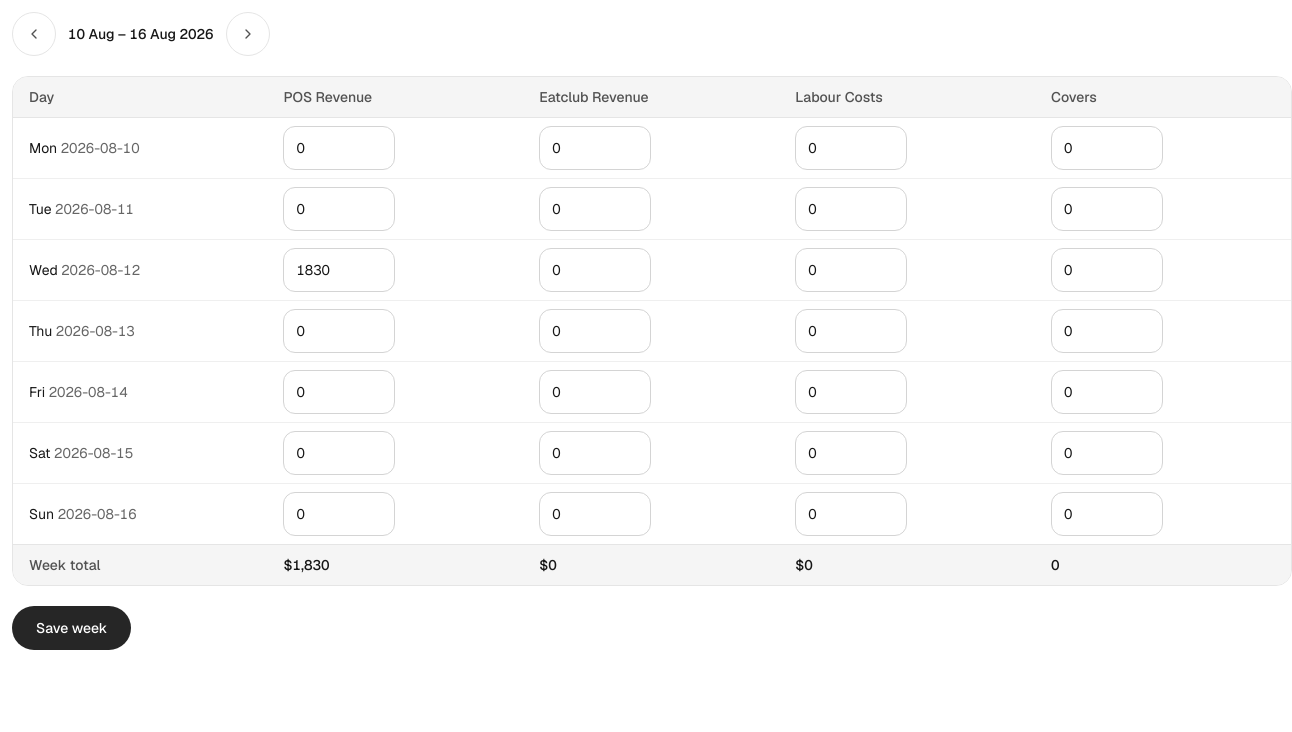
it: AS-022: an invalid entry › keeps an unrecognised refusal as a banner rather than swallowing it
Expected: the number field named "POS Revenue 2026-08-10" is shown, [283, 126, 395, 170]
Click the button "Save week".
click(72, 628)  # box [12, 606, 131, 650]
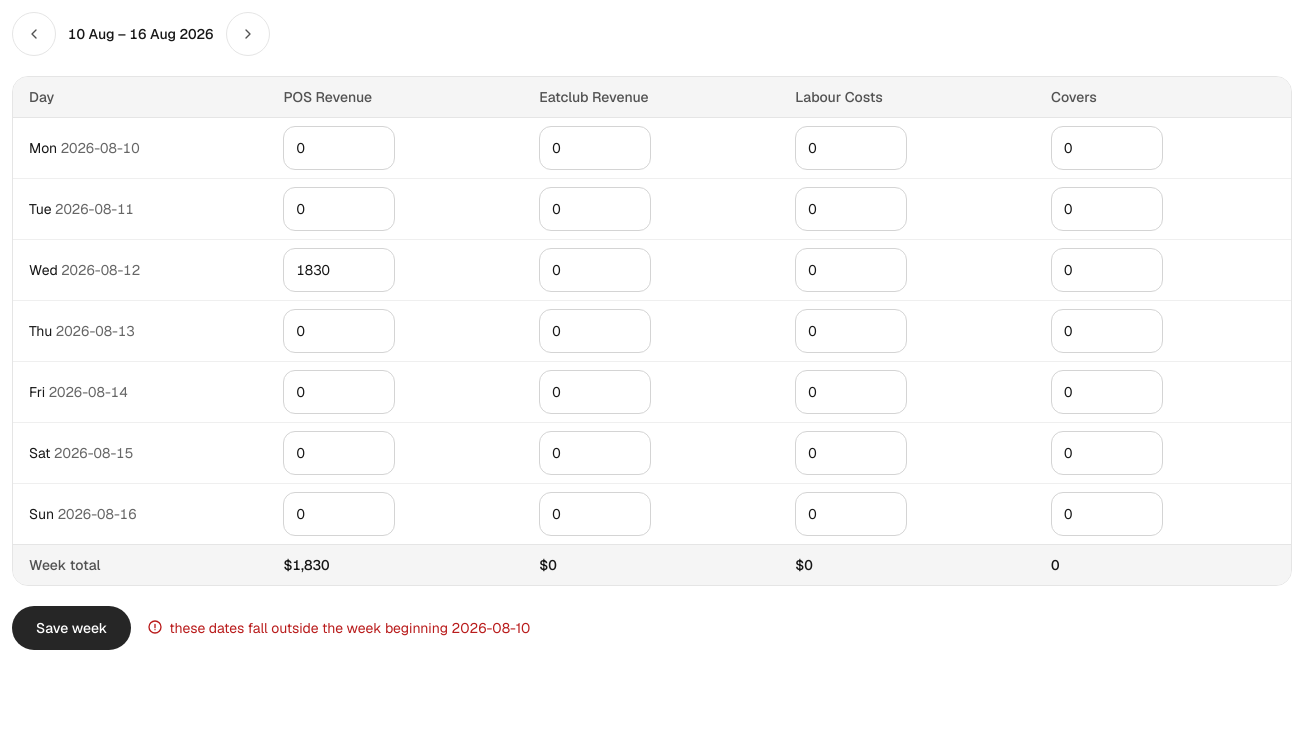
Expected: the message shows "fall outside the week", [169, 619, 530, 637]
